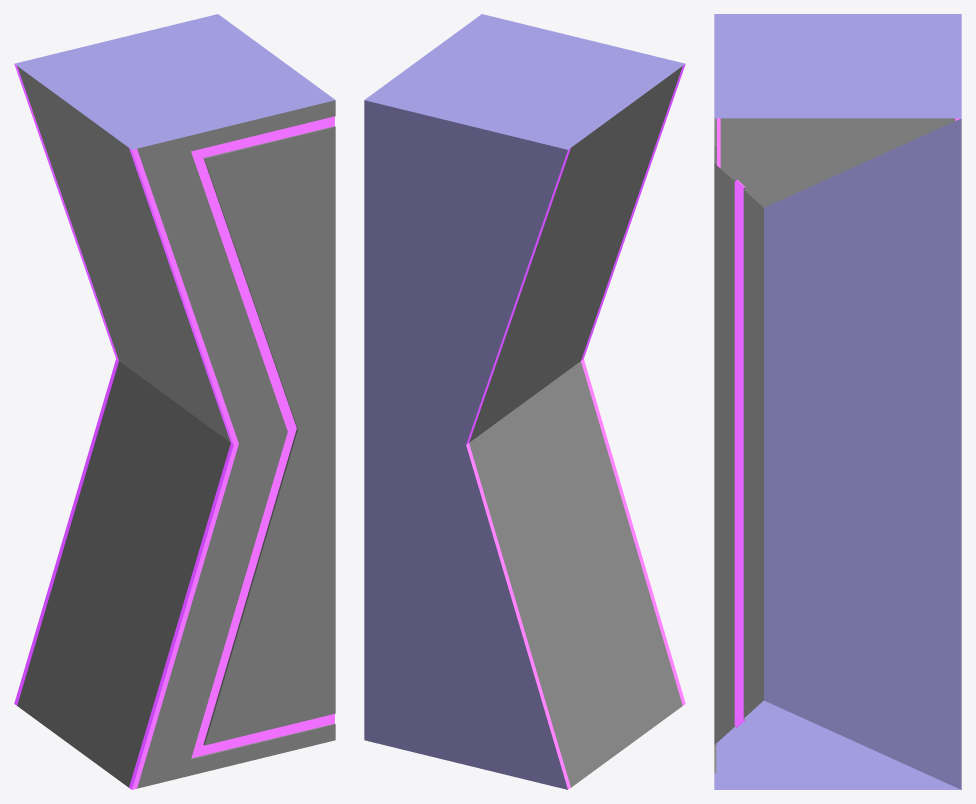
File: TunnelEnd.FBX
3 renders of one model, left to right at view 1: azimuth 30°, elevation 25°; view 2: azimuth 150°, elevation 25°; view 3: azimuth 270°, elevation 25°, orthographic. The views are drawn at different scales.
Parts seen in each view (by area): view 1: TunnelEnd; view 2: TunnelEnd; view 3: TunnelEnd.
Boxes of the visible parts, x1,y1,x2,y2 form: TunnelEnd: (14, 14, 335, 789); TunnelEnd: (364, 14, 685, 789); TunnelEnd: (714, 14, 961, 789).
Size of the model in its own units: 100 by 100 by 300.
